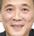without_mask: (1, 1, 34, 36)
